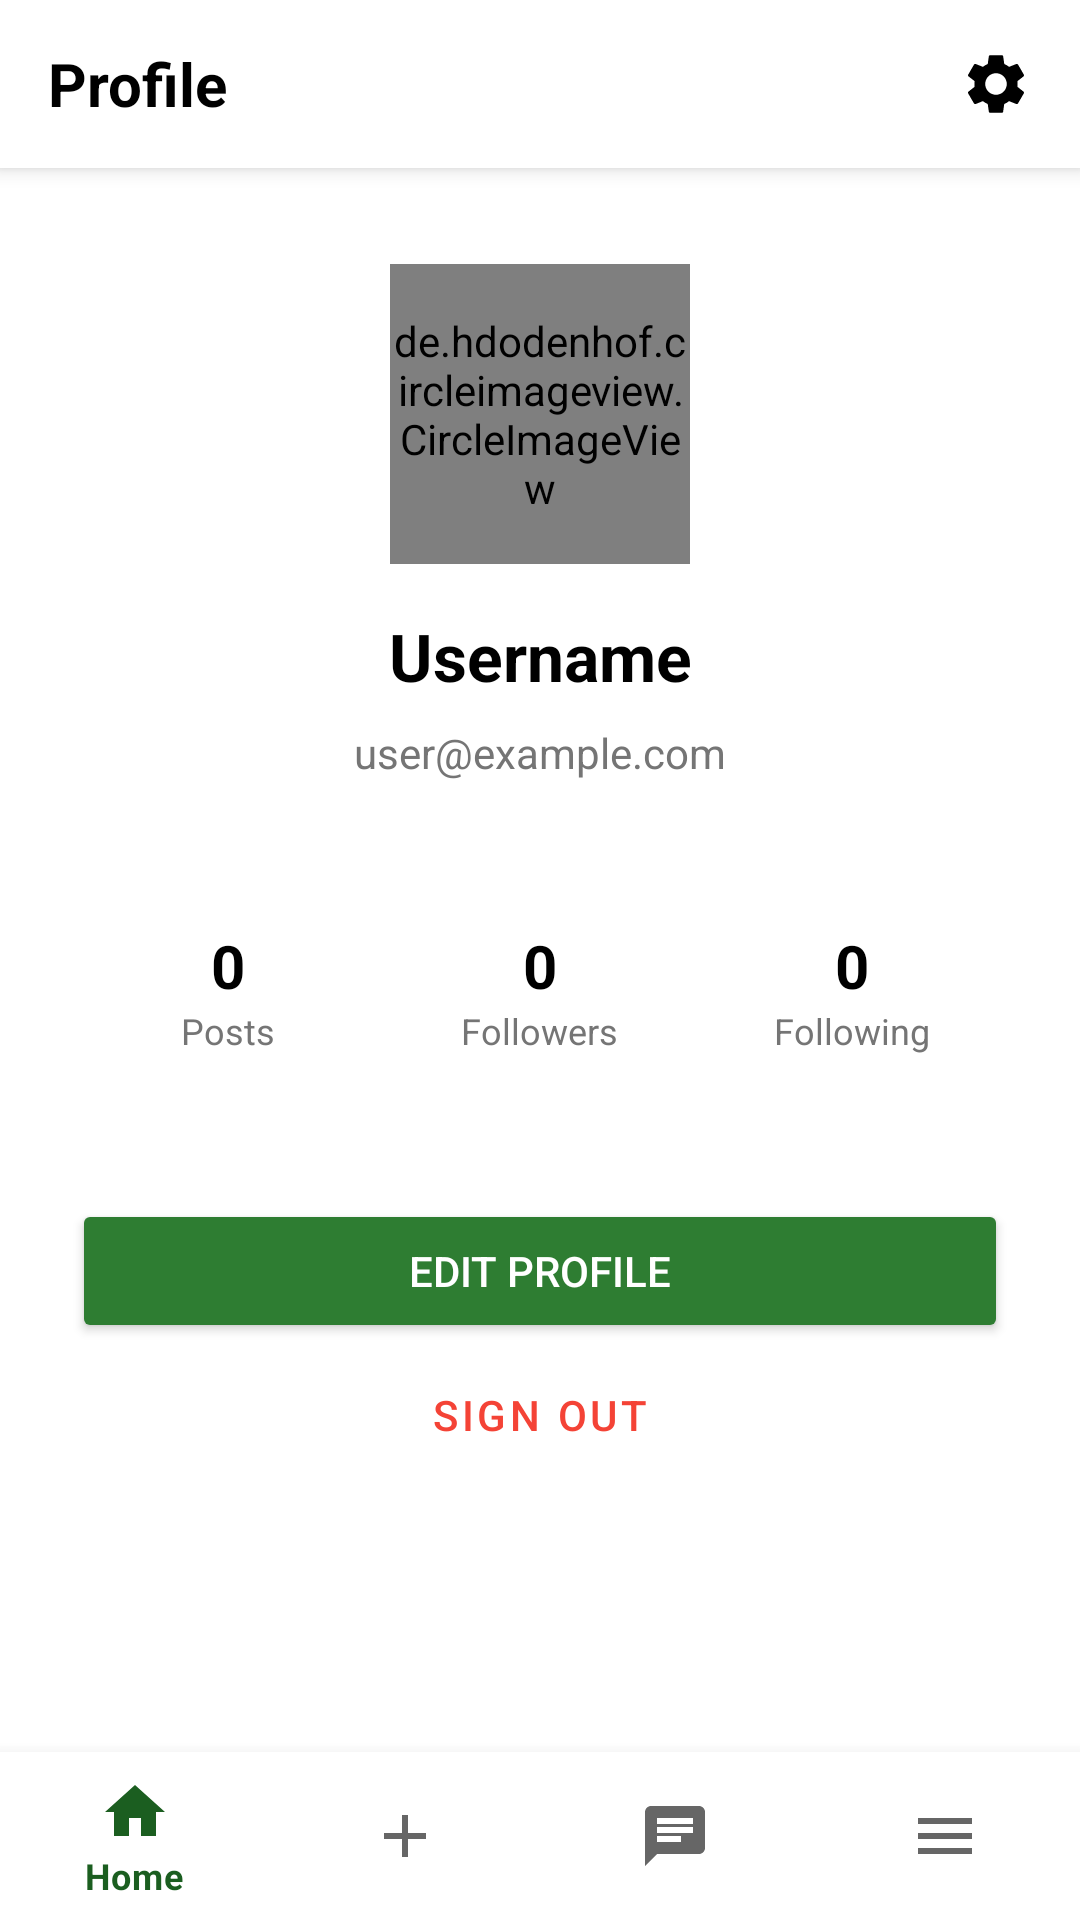

Point at icon controls on the screen. Image size 1080w x 1920h, points as (x,y).
Settings: (996,84)
